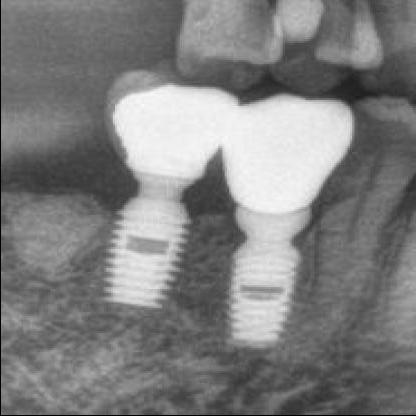Bicon: (105, 190, 193, 314), (226, 235, 304, 354)
